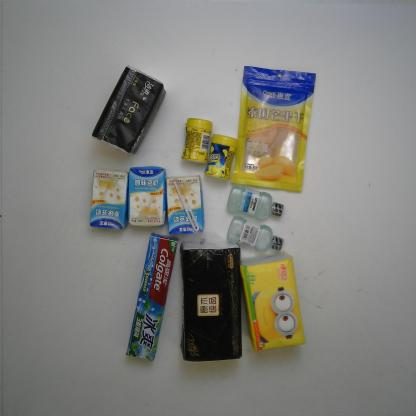Dried Fruit: (229, 64, 317, 194)
Gum: (202, 132, 239, 182), (180, 116, 214, 165)
Milk: (88, 167, 129, 232), (164, 174, 206, 236), (127, 165, 167, 228)
Personal Hygiene: (124, 230, 180, 363), (225, 183, 285, 221), (225, 214, 285, 252)
Tissue: (177, 231, 245, 363), (88, 61, 169, 158), (239, 250, 307, 354)
